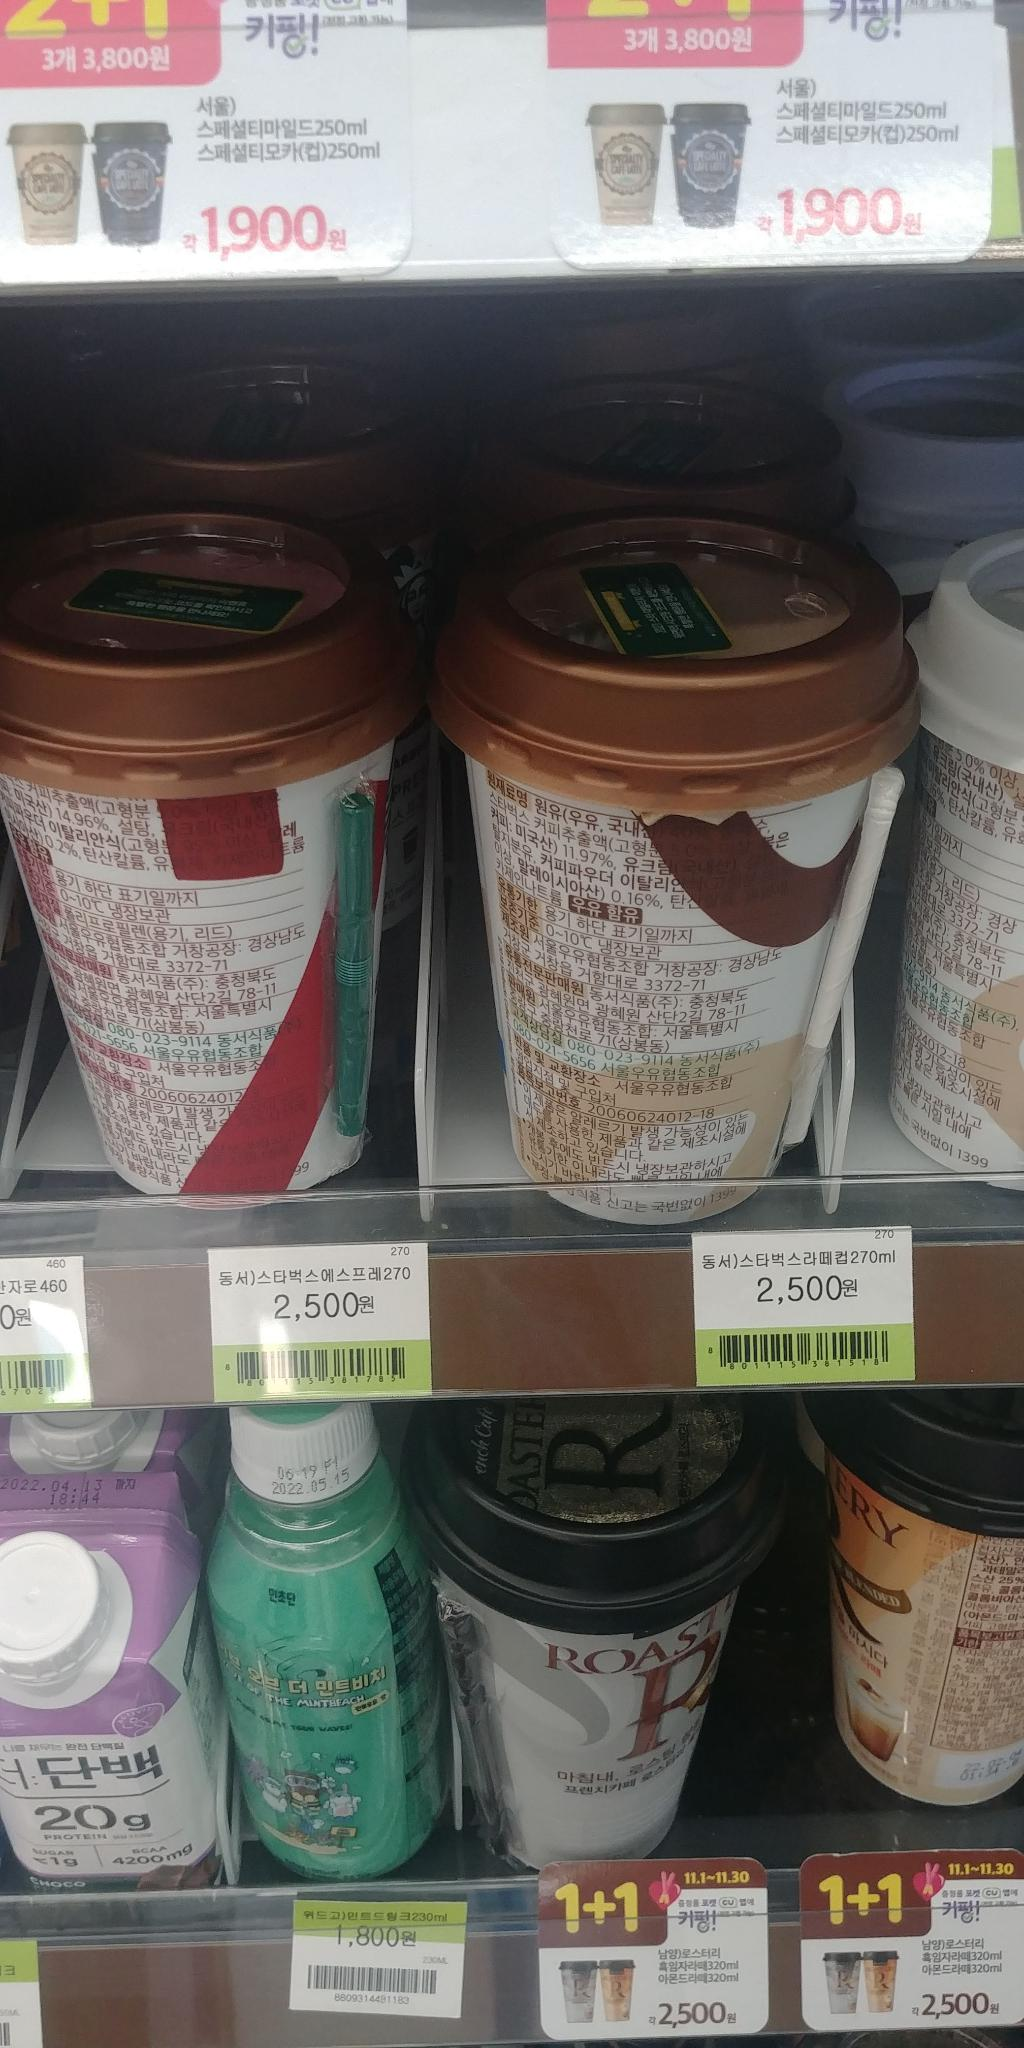starbucks_cafelatte: (441, 507, 913, 1255)
